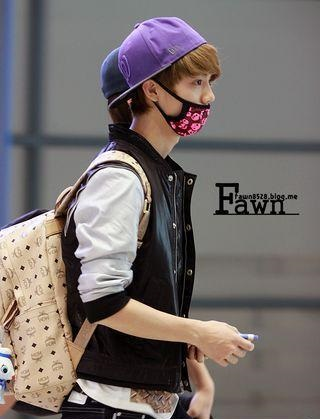face_mask: (159, 45, 214, 137)
